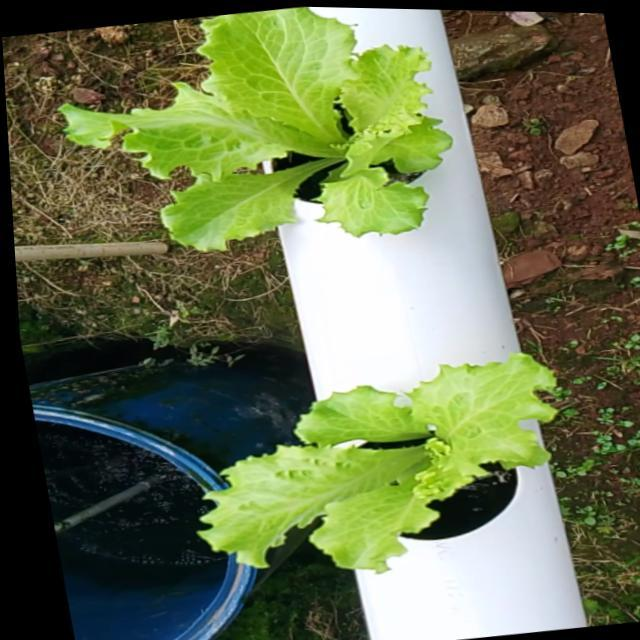Baby: (60, 8, 450, 263), (187, 372, 551, 594)
